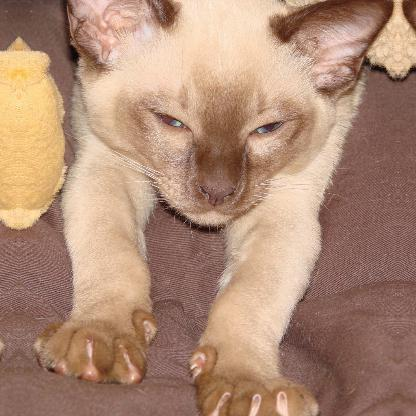Cat: (27, 0, 390, 415)
